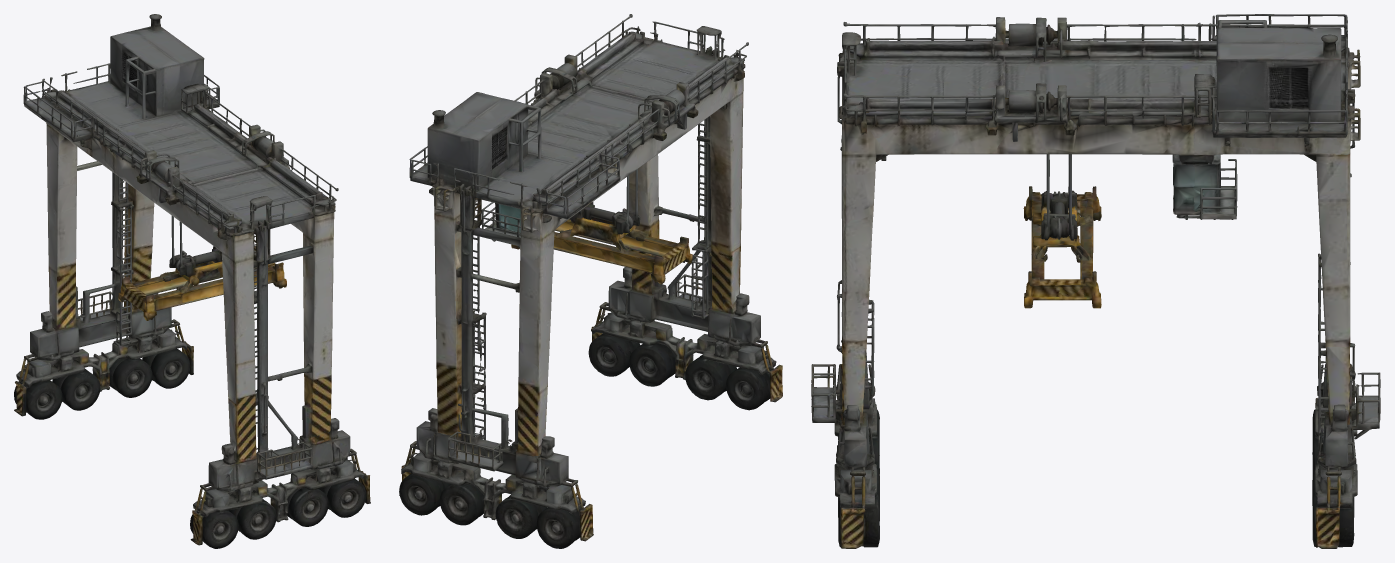
Rendered from rtg_crane.glb.
3 views of the same model, side by side, from view 1: azimuth 30°, elevation 25°; view 2: azimuth 150°, elevation 25°; view 3: azimuth 270°, elevation 25° (orthographic). The views are drawn at different scales.
Parts seen in each view (by area): view 1: tripo_node_47ee7296-7427-473e-8010-50ed49fc251f; view 2: tripo_node_47ee7296-7427-473e-8010-50ed49fc251f; view 3: tripo_node_47ee7296-7427-473e-8010-50ed49fc251f.
Part boxes in pixels (bbox=[...]): tripo_node_47ee7296-7427-473e-8010-50ed49fc251f: bbox=[14, 14, 370, 548]; tripo_node_47ee7296-7427-473e-8010-50ed49fc251f: bbox=[399, 14, 782, 548]; tripo_node_47ee7296-7427-473e-8010-50ed49fc251f: bbox=[811, 14, 1380, 548].
Bounding box in the file's own units: 0.4749 × 0.9702 × 0.9998.
Materials: 1 (1 with a texture image).
